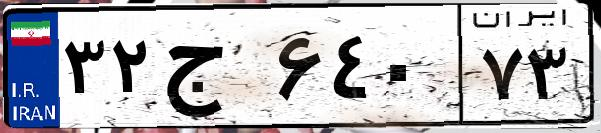0: (385, 28, 445, 110)
2: (110, 28, 158, 98)
3: (57, 26, 110, 100), (525, 38, 570, 115)
4: (330, 28, 385, 110)
6: (270, 28, 330, 110)
7: (475, 38, 525, 113)
ج: (158, 20, 270, 120)
